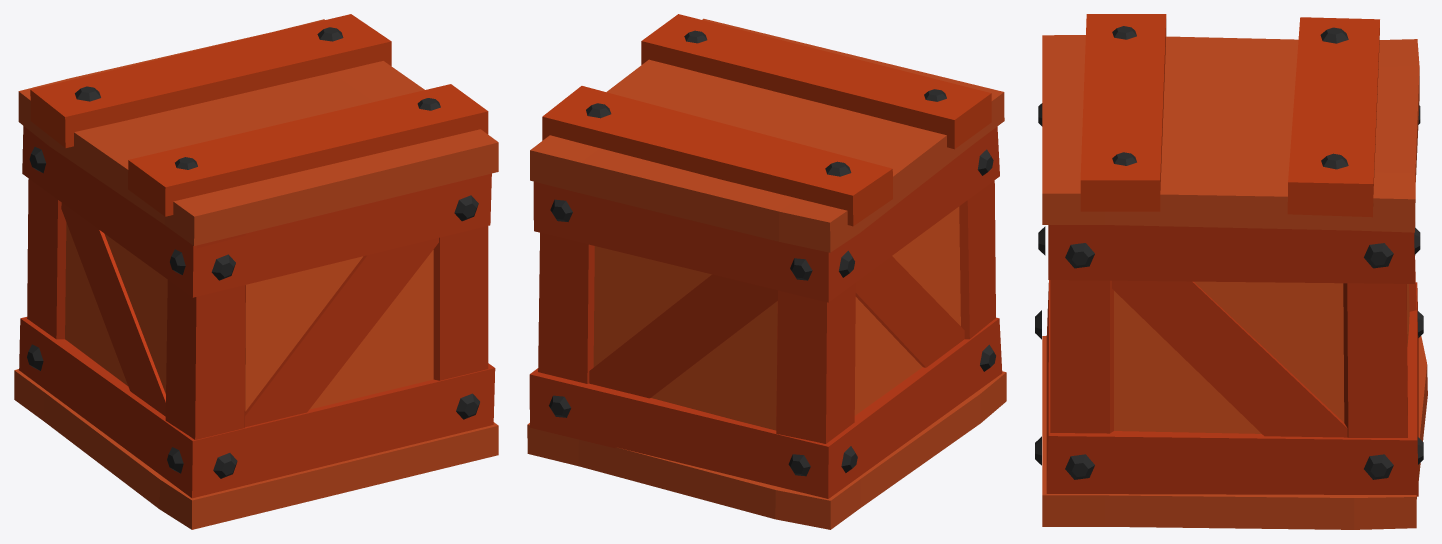
3 views of the same model, side by side, from view 1: azimuth 30°, elevation 25°; view 2: azimuth 150°, elevation 25°; view 3: azimuth 270°, elevation 25° (orthographic). The views are drawn at different scales.
Visible parts, largest first — view 1: Item21; view 2: Item21; view 3: Item21.
Part boxes in pixels (<box>): Item21: <box>14,14,498,529</box>; Item21: <box>527,14,1006,529</box>; Item21: <box>1035,14,1427,529</box>.
Size of the model in its own units: 0.251 by 0.2491 by 0.2498.
Materials: 1 (1 with a texture image).
